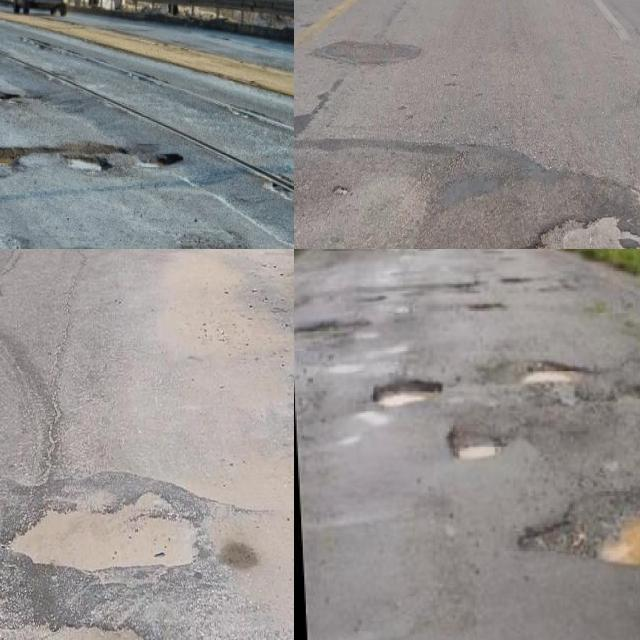Pothole: (2, 487, 199, 577), (518, 488, 640, 569), (446, 421, 509, 461), (370, 378, 444, 408), (524, 361, 590, 385), (71, 154, 112, 171), (0, 148, 25, 166), (153, 153, 182, 168)
